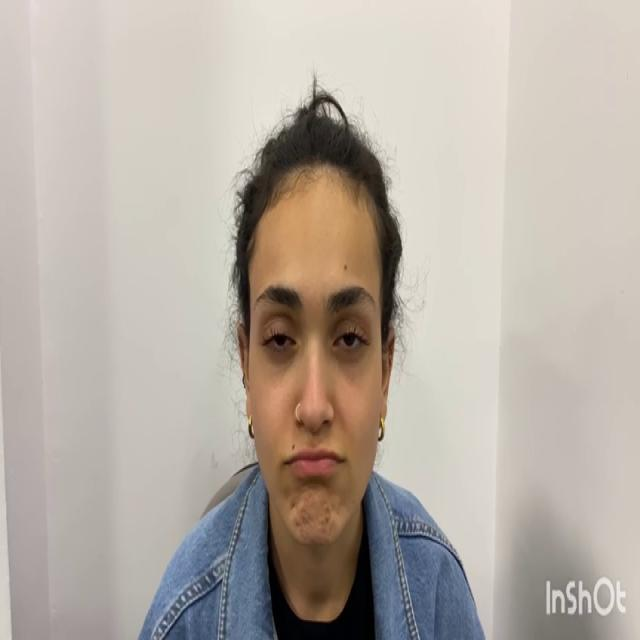natural: (237, 169, 397, 555)
